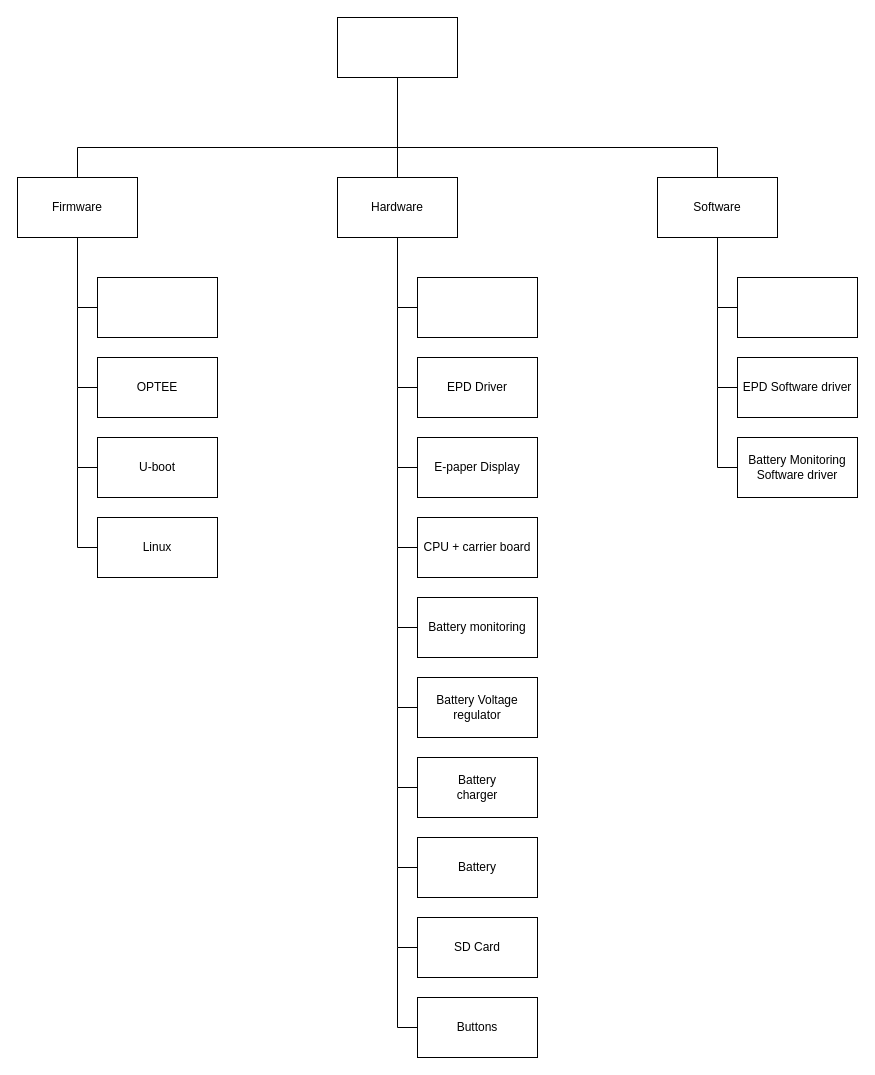
Some shapes in this 875 by 1075 pixel diagram are drawn without their labels. Each missing label, with the centre of its shape:
Ebook reader application: point (797, 307)
Enclosure: point (477, 307)
TF-A: point (157, 307)
The device: point (397, 47)
